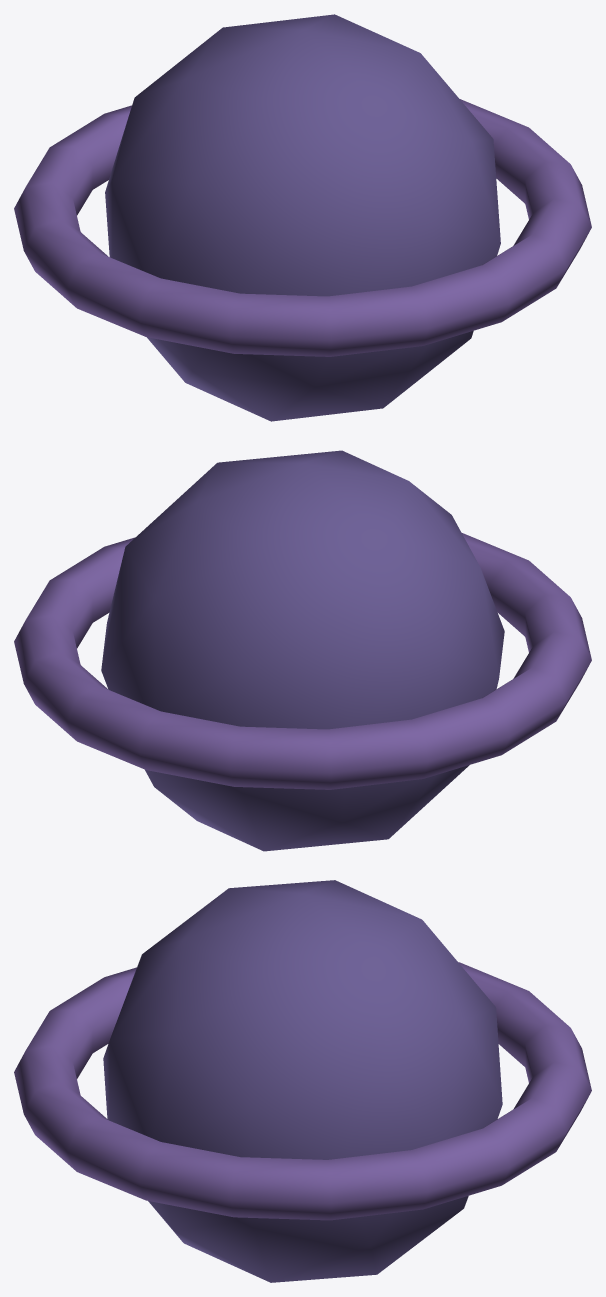
Rendered from off_06_moon_tome.glb.
3 views of the same model, one above another, from view 1: azimuth 30°, elevation 25°; view 2: azimuth 150°, elevation 25°; view 3: azimuth 270°, elevation 25° (orthographic).
Visible parts, largest first — view 1: focus_core, focus_ring; view 2: focus_core, focus_ring; view 3: focus_core, focus_ring.
Part boxes in pixels (left/top/right/bottom): focus_core: left=105, top=14, right=500, bottom=421; focus_ring: left=14, top=99, right=591, bottom=356; focus_core: left=101, top=450, right=504, bottom=851; focus_ring: left=14, top=533, right=591, bottom=789; focus_core: left=103, top=880, right=502, bottom=1282; focus_ring: left=14, top=962, right=591, bottom=1220.
Size of the model in its own units: 0.5573 by 0.4 by 0.5584.
